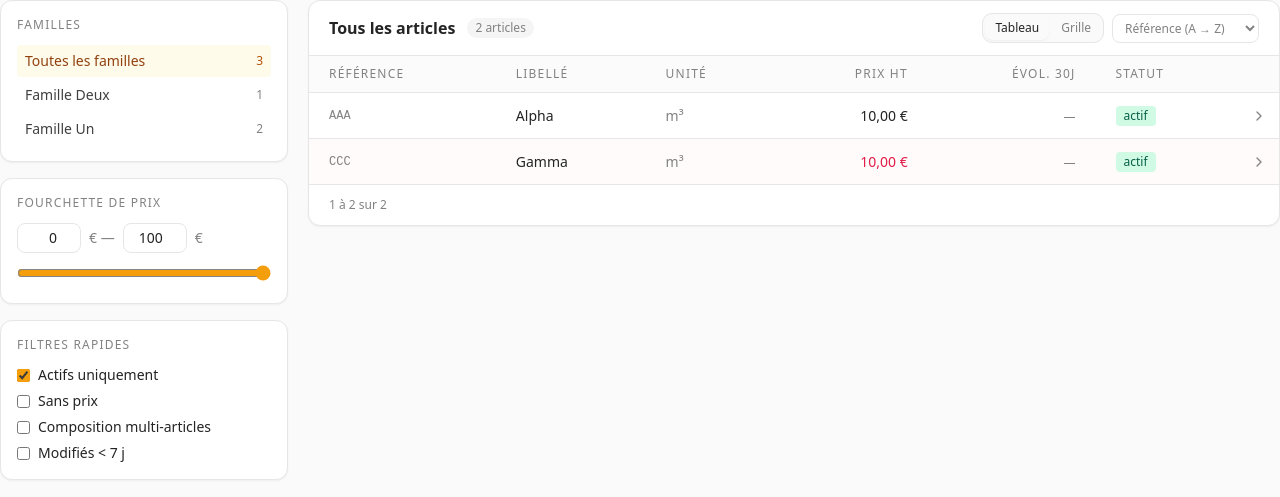
Test: ArticlesExplorer — filtres rapides › décocher « Actifs uniquement » révèle les inactifs
Click the checkbox labelled "Actifs uniquement" at (24, 375), box [17,368,30,382]
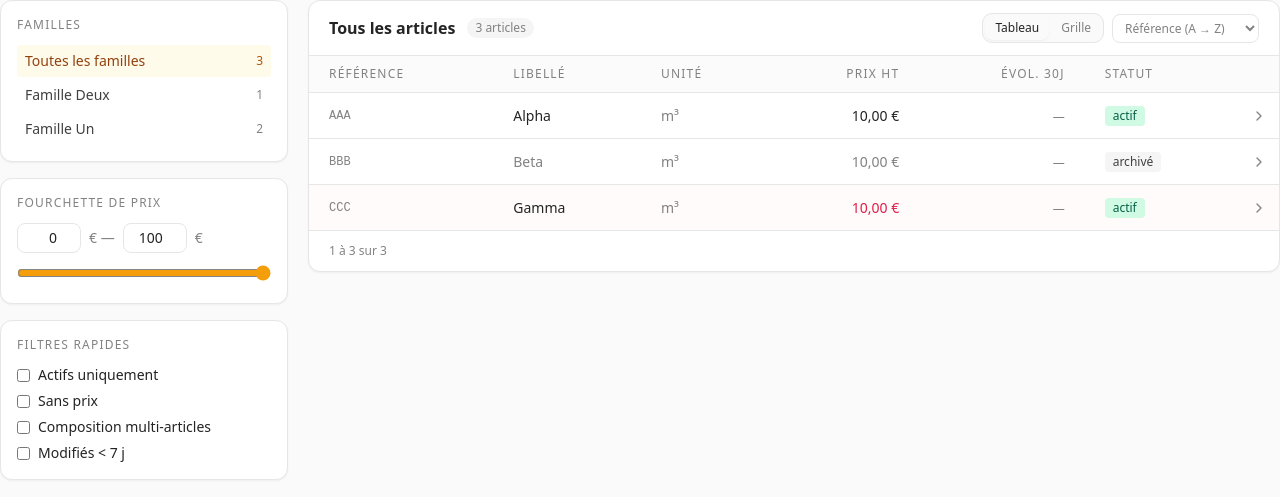
Check: the text "Beta" is shown, box [513,152,543,170]
